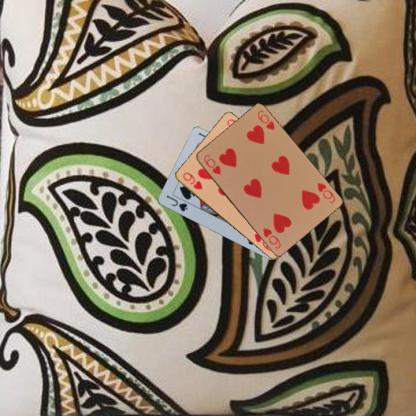6h: (201, 151, 222, 177), (314, 180, 336, 204)
9h: (180, 169, 203, 191)
Js: (164, 192, 188, 212)
